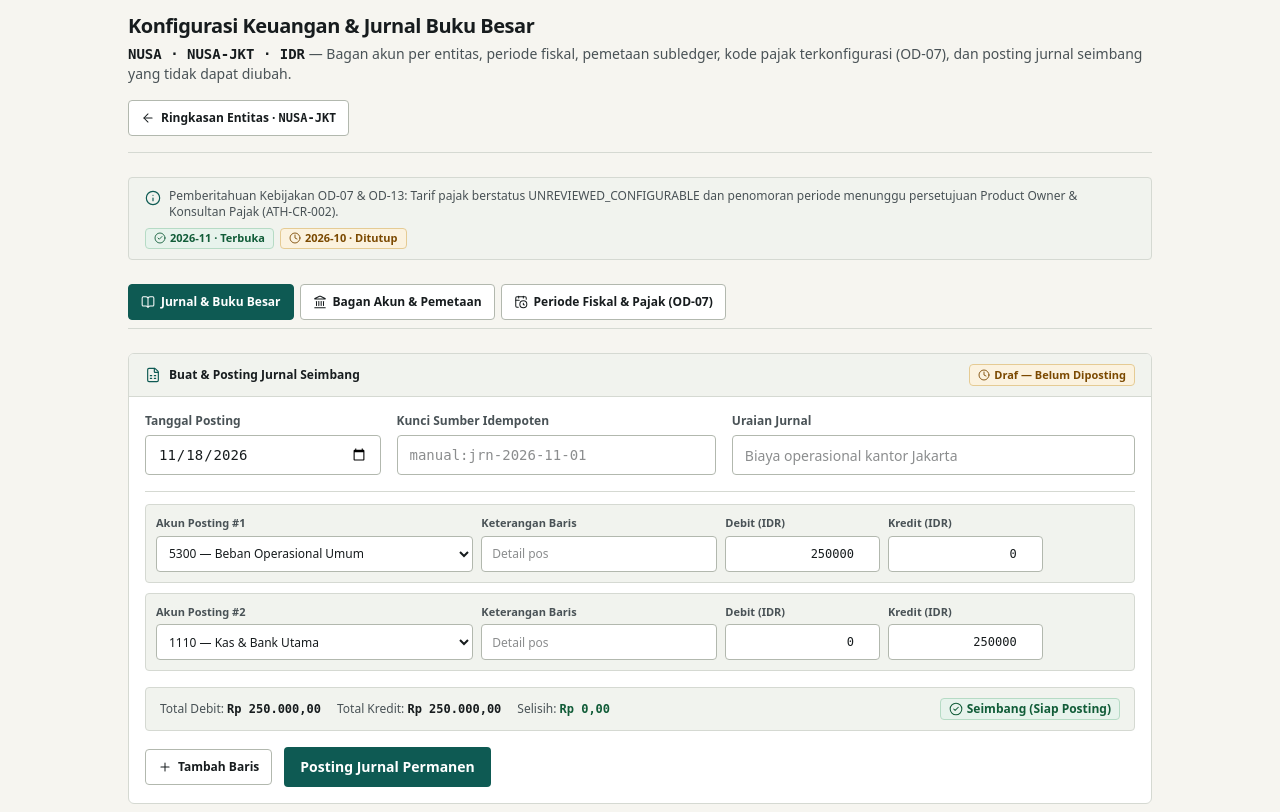
Scenario: S04 Finance & GL UI › tracks live balanced/unbalanced variance cleanly and supports CoA & Tax tabs
Later steps or results of the test are not shown.
Expected: the heading "Konfigurasi Keuangan & Jurnal Buku Besar" is shown, [128,12,534,39]
Expected: the element with test id "draft-balance-badge" shows "Seimbang", [967,700,1111,717]
Replace the text in the number field with id "draft-debit-0" with "100.10" at (803, 554), box [725,536,880,572]
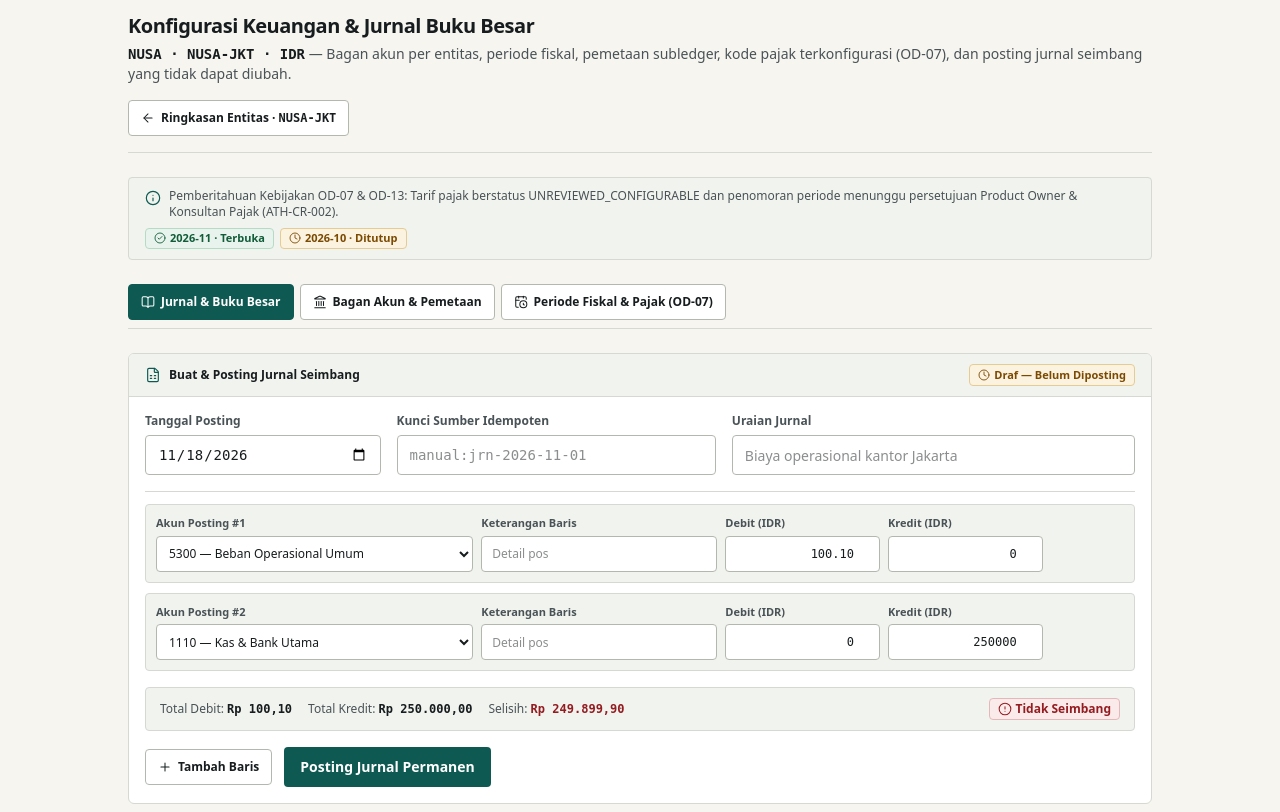
Replace the text in the number field with id "draft-credit-1" with "100.10" at (965, 642), box [888,624,1043,660]
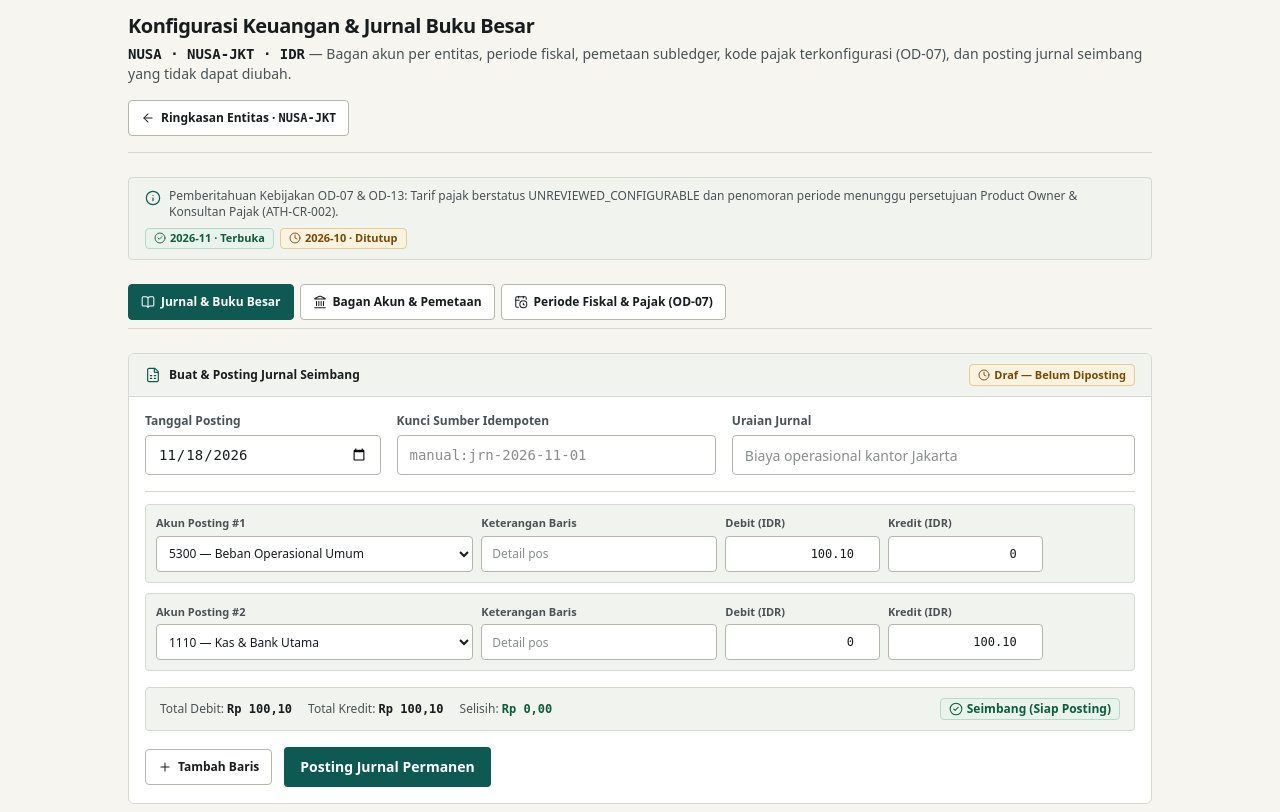
Expected: the element with test id "draft-balance-badge" shows "Seimbang", [967,700,1111,717]
Replace the text in the number field with id "draft-debit-0" with "300000" at (803, 554), box [725,536,880,572]
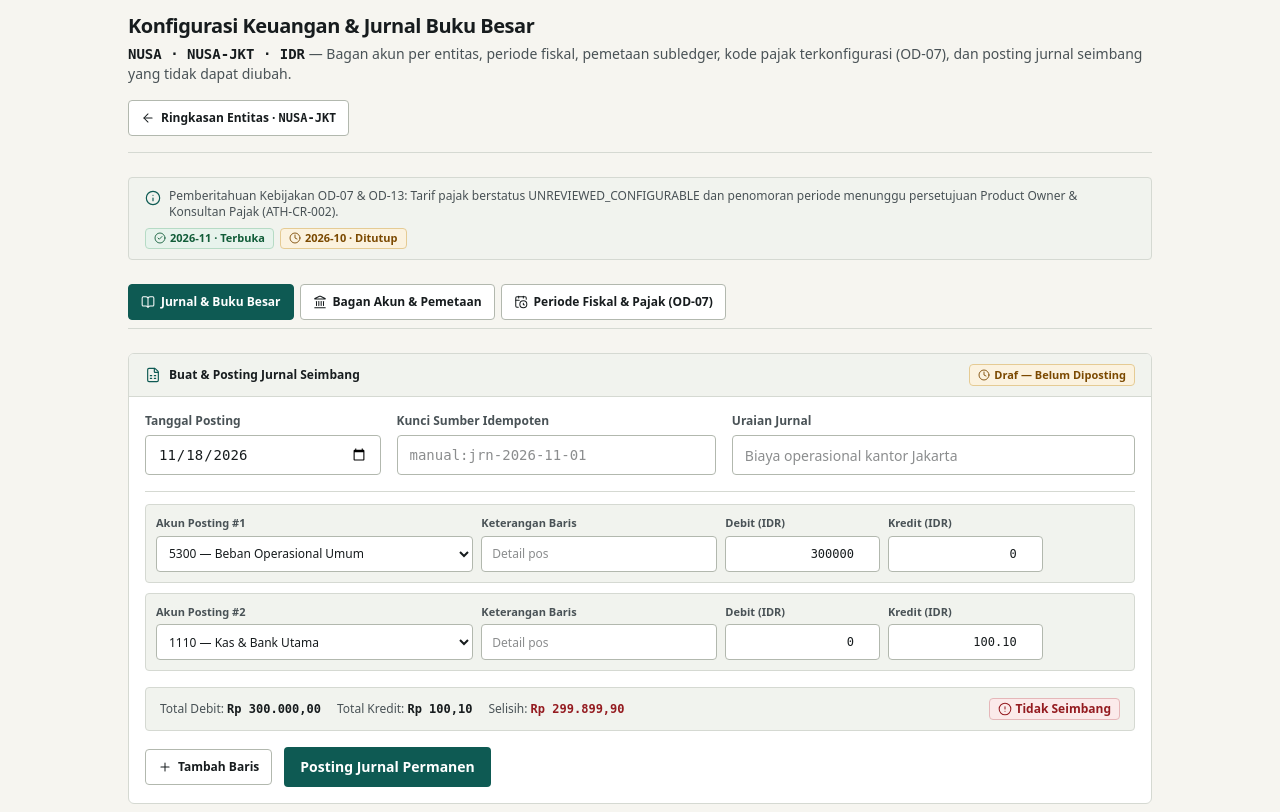
Result: the element with test id "draft-balance-badge" reads "Tidak Seimbang" at [1016,700,1111,717]
Click the tab "Bagan Akun & Pemetaan".
click(397, 302)  # box [300,284,494,320]
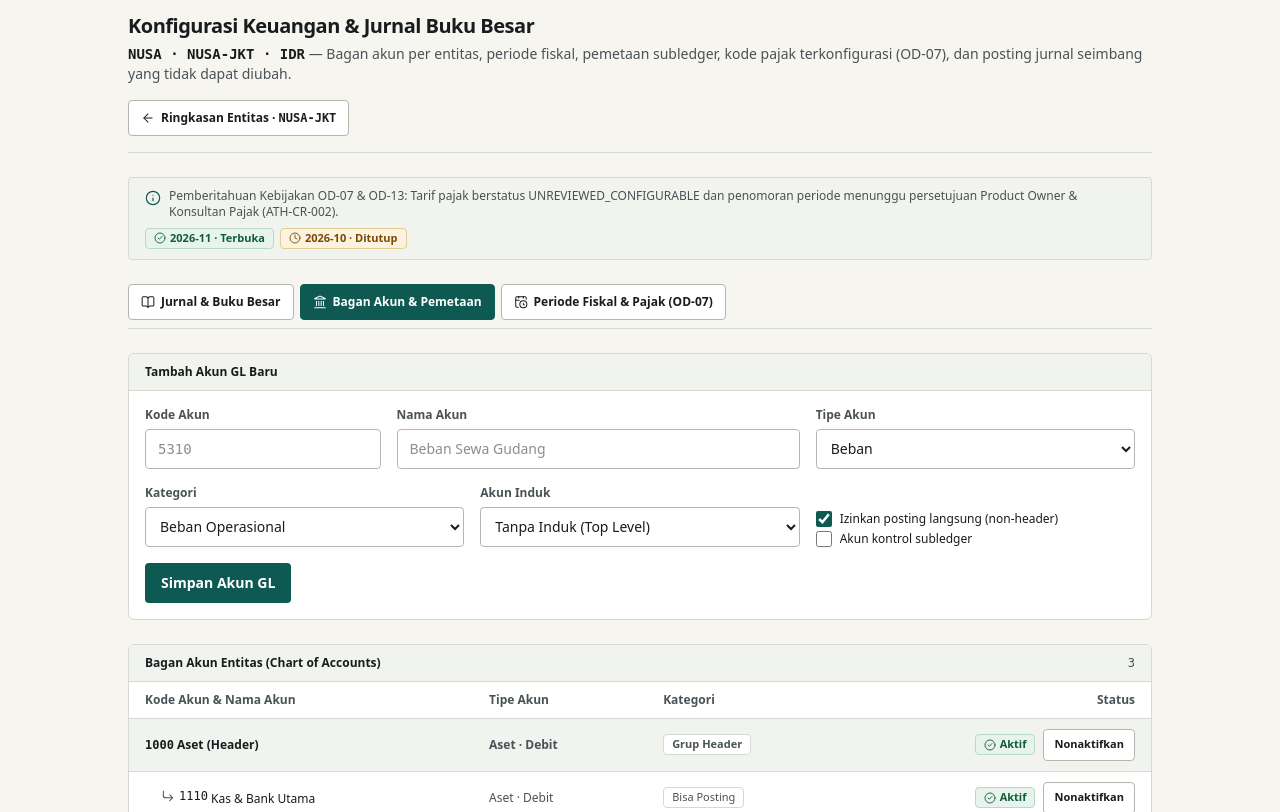
Result: the text "Aset (Header)" is shown at [177,736,258,753]
Result: the text "Grup Header" is shown at [663,734,751,755]
